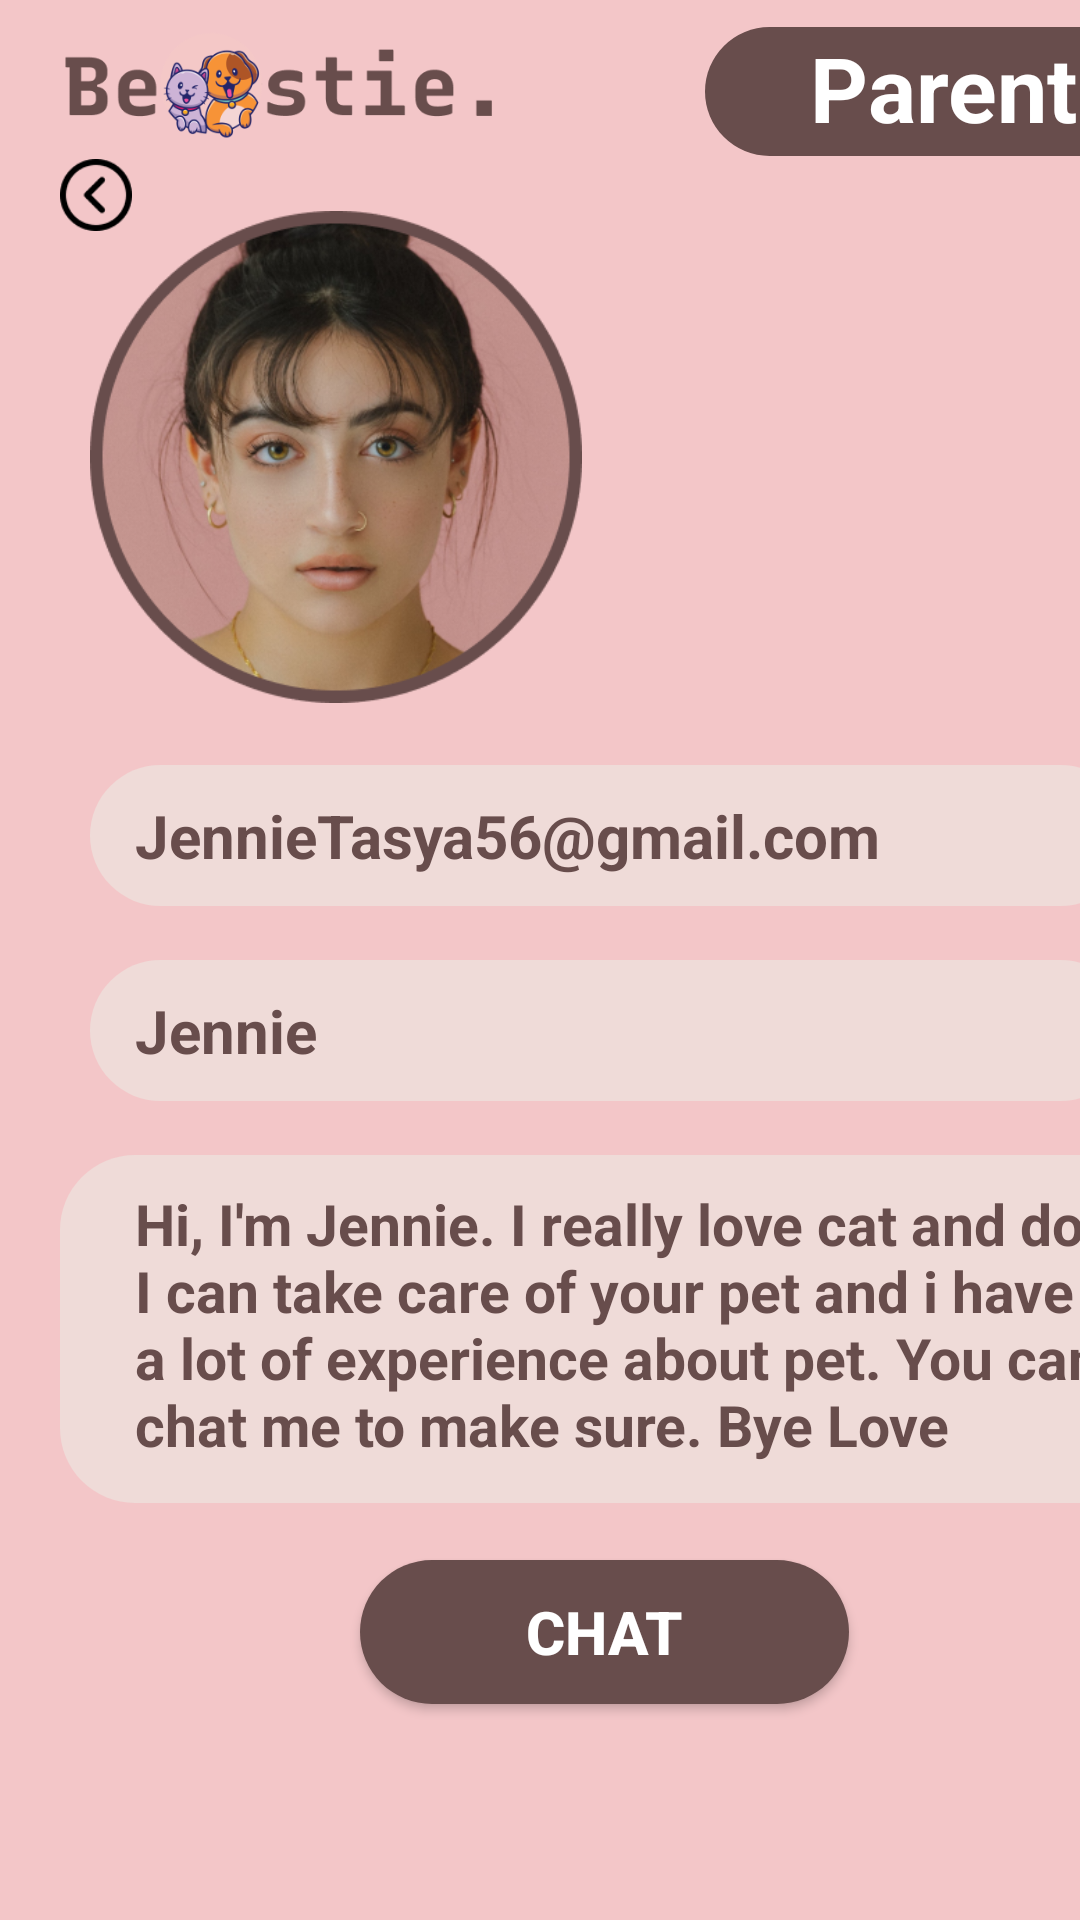

Point at icon controls on the screen. Image size 1080*1920, points as (x=x, y=y).
balik: (x=96, y=195)
